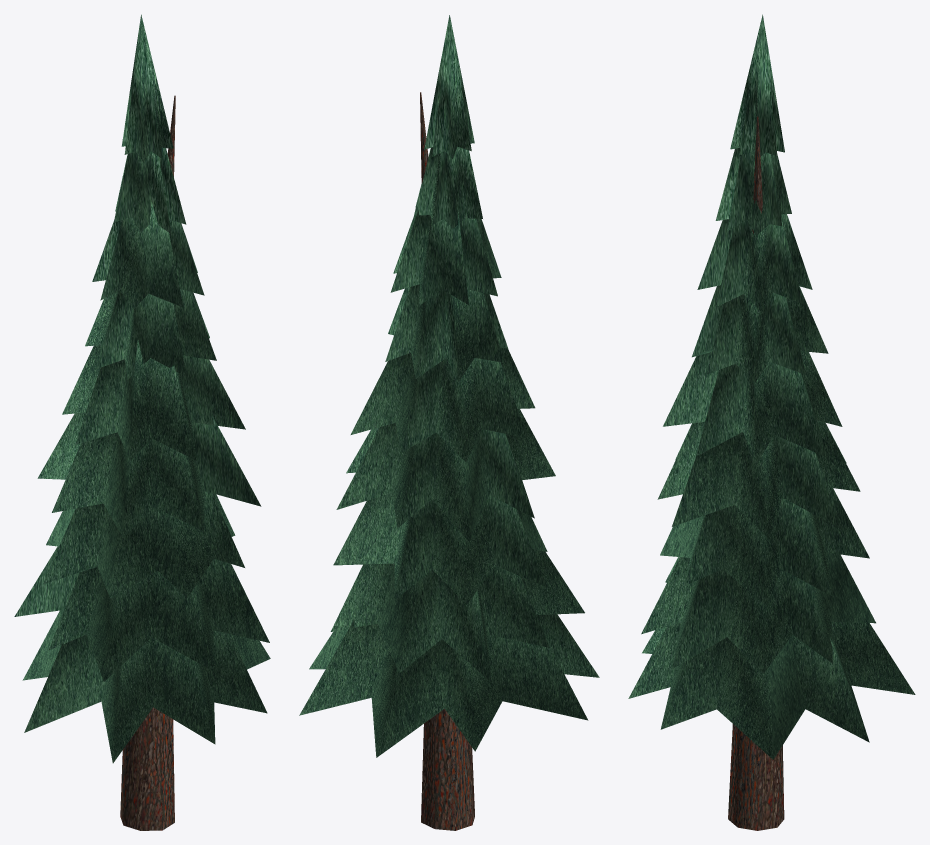
The model's file is pine_1.glb.
The picture shows the model from 3 angles, left to right: view 1: azimuth 30°, elevation 25°; view 2: azimuth 150°, elevation 25°; view 3: azimuth 270°, elevation 25°; orthographic projection.
Parts seen in each view (by area): view 1: pine_1; view 2: pine_1; view 3: pine_1.
Boxes of the visible parts, x1,y1,x2,y2 form: pine_1: (14, 14, 270, 830); pine_1: (299, 15, 599, 830); pine_1: (628, 14, 915, 830).
Bounding box in the file's own units: 4.48 × 13.13 × 4.26.
2 materials, 2 textured.
